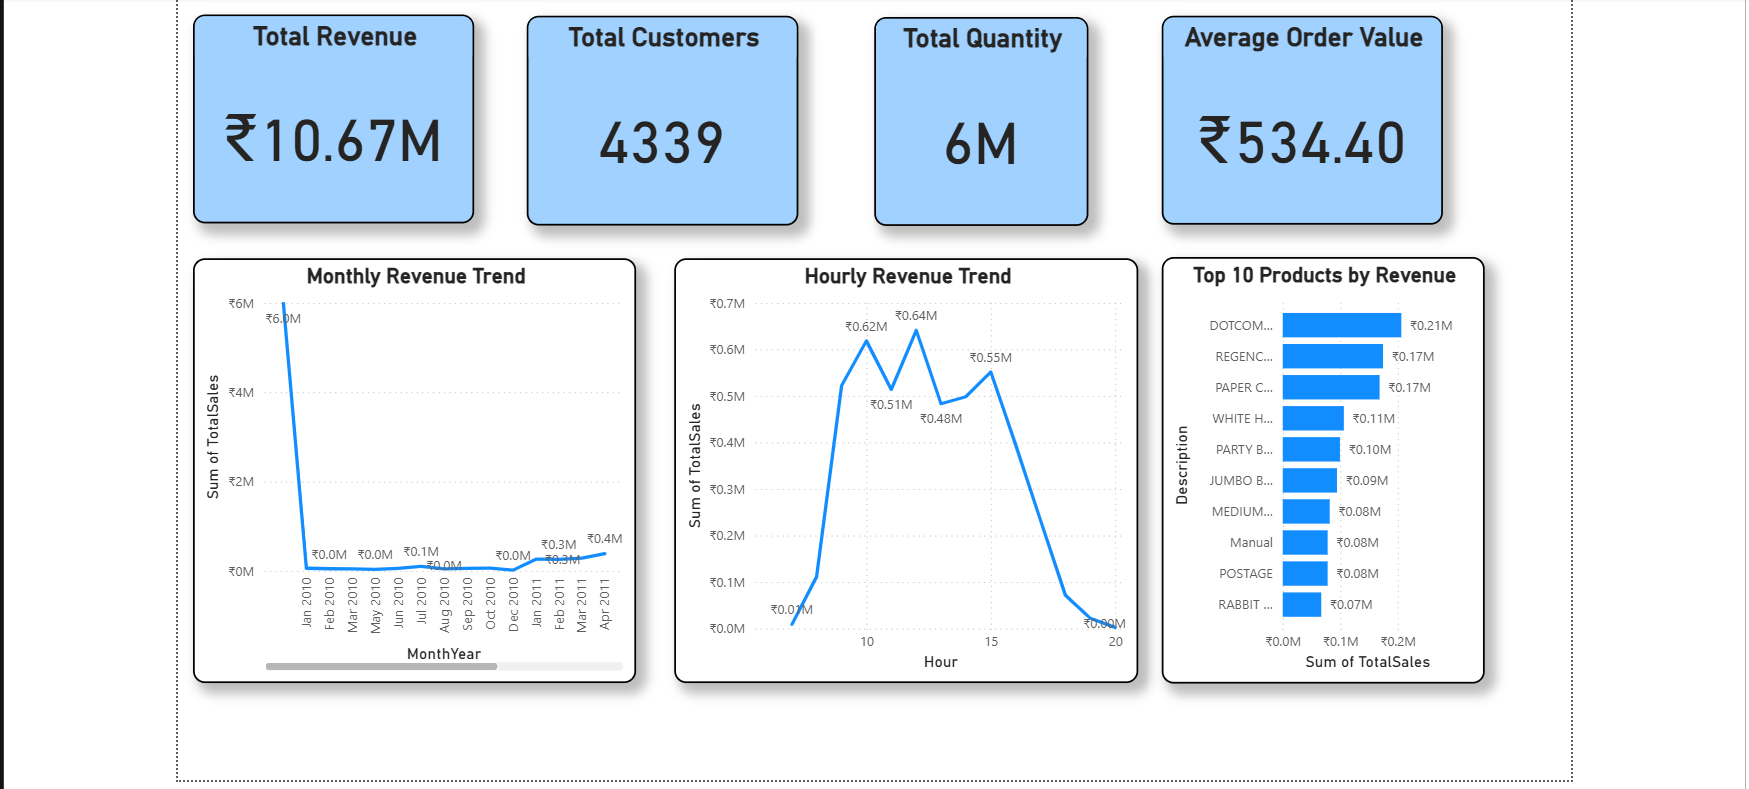

This screenshot's page, from the dashboard's own definition file:
{"tool":"powerbi","page":{"name":"Page 1","canvas":[1280,720],"ordinal":0},"visuals":[{"type":"card","title":"Total Revenue","fields":{"Values":["Sum(sales_data.TotalSales)"]},"box":[14,16.3,258.1,191.9],"z":0},{"type":"card","title":"Total Quantity","fields":{"Values":["Sum(sales_data.Quantity)"]},"box":[639.8,18.4,196.4,191.8],"z":1000},{"type":"card","title":"Total Customers","fields":{"Values":["sales_data.UniqueCustomers"]},"box":[320.5,17.2,249.3,193],"z":2000},{"type":"card","title":"Average Order Value","fields":{"Values":["sales_data.AvgOrderValue"]},"box":[904,17.2,258.5,191.8],"z":3000},{"type":"lineChart","title":"Monthly Revenue Trend","fields":{"Category":["sales_data.MonthYear"],"Y":["Sum(sales_data.TotalSales)"]},"box":[14,239.5,407,390.7],"z":4000},{"type":"lineChart","title":"Hourly Revenue Trend","fields":{"Category":["sales_data.Hour"],"Y":["Sum(sales_data.TotalSales)"]},"box":[455.8,239.5,426.7,390.7],"z":5000},{"type":"clusteredBarChart","title":"Top 10 Products by Revenue","fields":{"Category":["sales_data.Description"],"Y":["Sum(sales_data.TotalSales)"]},"box":[903.5,238.4,296.5,391.9],"z":6000}]}

Visuals, with their boxes in screenshot pixels (x1, y1, x2, y2):
"Total Revenue" card: [left=193, top=13, right=471, bottom=220]
"Total Quantity" card: [left=868, top=15, right=1080, bottom=222]
"Total Customers" card: [left=524, top=14, right=793, bottom=222]
"Average Order Value" card: [left=1153, top=14, right=1432, bottom=221]
"Monthly Revenue Trend" lineChart: [left=193, top=254, right=632, bottom=676]
"Hourly Revenue Trend" lineChart: [left=670, top=254, right=1130, bottom=676]
"Top 10 Products by Revenue" clusteredBarChart: [left=1153, top=253, right=1473, bottom=676]
